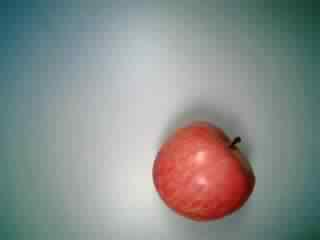apple: (152, 120, 257, 222)
